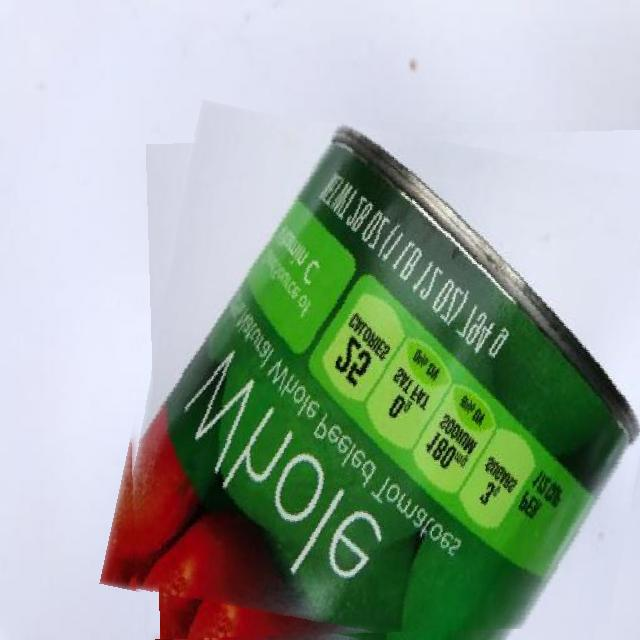recyclable: (122, 122, 640, 640)
